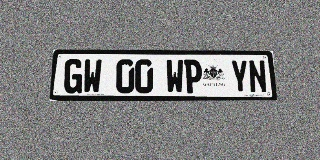0: (116, 59, 134, 93), (135, 59, 153, 93)
G: (63, 59, 83, 93)
N: (248, 60, 267, 93)
P: (184, 60, 203, 93)
W: (82, 59, 102, 93), (166, 59, 184, 93)
Y: (230, 60, 249, 93)
